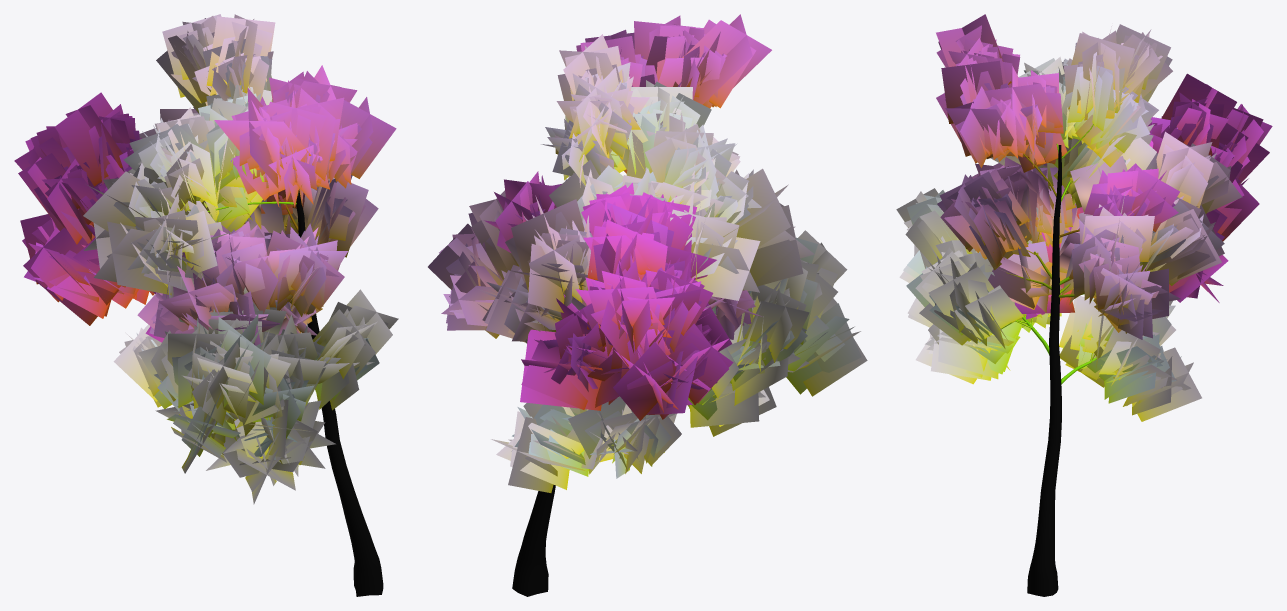
Rendered from tree_pine_d.glb.
3 renders of one model, left to right at view 1: azimuth 30°, elevation 25°; view 2: azimuth 150°, elevation 25°; view 3: azimuth 270°, elevation 25°, orthographic. The views are drawn at different scales.
Parts seen in each view (by area): view 1: tree_pine_d; view 2: tree_pine_d; view 3: tree_pine_d.
Part boxes in pixels (x1,y1,x2,y2): tree_pine_d: [14, 14, 398, 596]; tree_pine_d: [428, 14, 867, 596]; tree_pine_d: [896, 14, 1272, 596].
Bounding box in the file's own units: 6.12 × 10.53 × 6.91.
